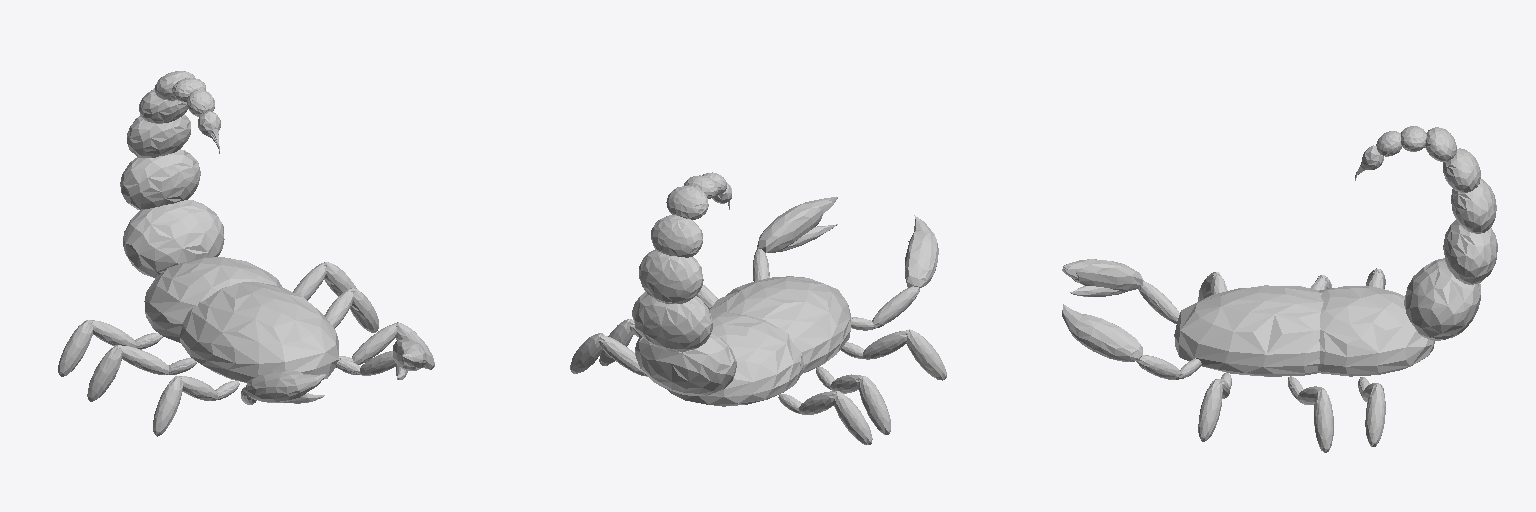
File: scorpion_000027.obj
3 views of the same model, side by side, from view 1: azimuth 30°, elevation 25°; view 2: azimuth 150°, elevation 25°; view 3: azimuth 270°, elevation 25° (orthographic).
Visible parts, largest first — view 1: Sphere.010_Sphere.012, Sphere.002_Sphere.004, Sphere.011_Sphere.013, Sphere.003_Sphere.005, Sphere.030_Sphere.000, Sphere.004_Sphere.006, Sphere.012_Sphere.020, Sphere.014_Sphere.023, Sphere.000_Sphere.019, Sphere.013_Sphere.017, Sphere.016_Sphere.022, Sphere.018_Sphere.025 (+5 smaller); view 2: Sphere.010_Sphere.012, Sphere.011_Sphere.013, Sphere.002_Sphere.004, Sphere.030_Sphere.000, Sphere.003_Sphere.005, Sphere.004_Sphere.006, Sphere.014_Sphere.023, Sphere.005_Sphere.007, Sphere.012_Sphere.020, Sphere.018_Sphere.025, Sphere.028_Sphere.046, Sphere.006_Sphere.008 (+2 smaller); view 3: Sphere.010_Sphere.012, Sphere.011_Sphere.013, Sphere.002_Sphere.004, Sphere.030_Sphere.000, Sphere.003_Sphere.005, Sphere.004_Sphere.006, Sphere.028_Sphere.046, Sphere.000_Sphere.019, Sphere.005_Sphere.007, Sphere.014_Sphere.023, Sphere.012_Sphere.020, Sphere.006_Sphere.008 (+1 smaller).
Part boxes in pixels (bbox=[...]): Sphere.010_Sphere.012: bbox=[180, 282, 338, 382]; Sphere.002_Sphere.004: bbox=[123, 200, 224, 277]; Sphere.011_Sphere.013: bbox=[144, 257, 281, 342]; Sphere.003_Sphere.005: bbox=[120, 149, 200, 209]; Sphere.030_Sphere.000: bbox=[245, 339, 426, 402]; Sphere.004_Sphere.006: bbox=[127, 114, 190, 157]; Sphere.012_Sphere.020: bbox=[87, 288, 378, 401]; Sphere.014_Sphere.023: bbox=[58, 262, 356, 376]; Sphere.000_Sphere.019: bbox=[153, 322, 434, 436]; Sphere.013_Sphere.017: bbox=[180, 324, 396, 400]; Sphere.016_Sphere.022: bbox=[120, 289, 353, 374]; Sphere.018_Sphere.025: bbox=[91, 263, 326, 347]; Sphere.010_Sphere.012: bbox=[709, 276, 850, 373]; Sphere.011_Sphere.013: bbox=[665, 312, 803, 406]; Sphere.002_Sphere.004: bbox=[635, 332, 736, 395]; Sphere.030_Sphere.000: bbox=[757, 197, 938, 287]; Sphere.003_Sphere.005: bbox=[632, 291, 712, 352]; Sphere.004_Sphere.006: bbox=[639, 249, 703, 303]; Sphere.014_Sphere.023: bbox=[570, 333, 872, 444]; Sphere.005_Sphere.007: bbox=[651, 215, 702, 257]; Sphere.012_Sphere.020: bbox=[599, 319, 890, 434]; Sphere.018_Sphere.025: bbox=[599, 335, 835, 414]; Sphere.028_Sphere.046: bbox=[753, 248, 919, 328]; Sphere.006_Sphere.008: bbox=[666, 186, 708, 219]; Sphere.010_Sphere.012: bbox=[1174, 285, 1323, 376]; Sphere.011_Sphere.013: bbox=[1318, 286, 1434, 376]; Sphere.002_Sphere.004: bbox=[1404, 258, 1480, 340]; Sphere.030_Sphere.000: bbox=[1062, 259, 1142, 361]; Sphere.003_Sphere.005: bbox=[1443, 220, 1497, 284]; Sphere.004_Sphere.006: bbox=[1451, 179, 1496, 233]; Sphere.028_Sphere.046: bbox=[1136, 280, 1181, 379]; Sphere.000_Sphere.019: bbox=[1198, 272, 1222, 441]; Sphere.005_Sphere.007: bbox=[1443, 148, 1480, 192]; Sphere.014_Sphere.023: bbox=[1365, 268, 1385, 446]; Sphere.012_Sphere.020: bbox=[1314, 275, 1333, 452]; Sphere.006_Sphere.008: bbox=[1425, 127, 1456, 161].
Bounding box in the file's own units: 0.9568 × 0.7759 × 1.2.